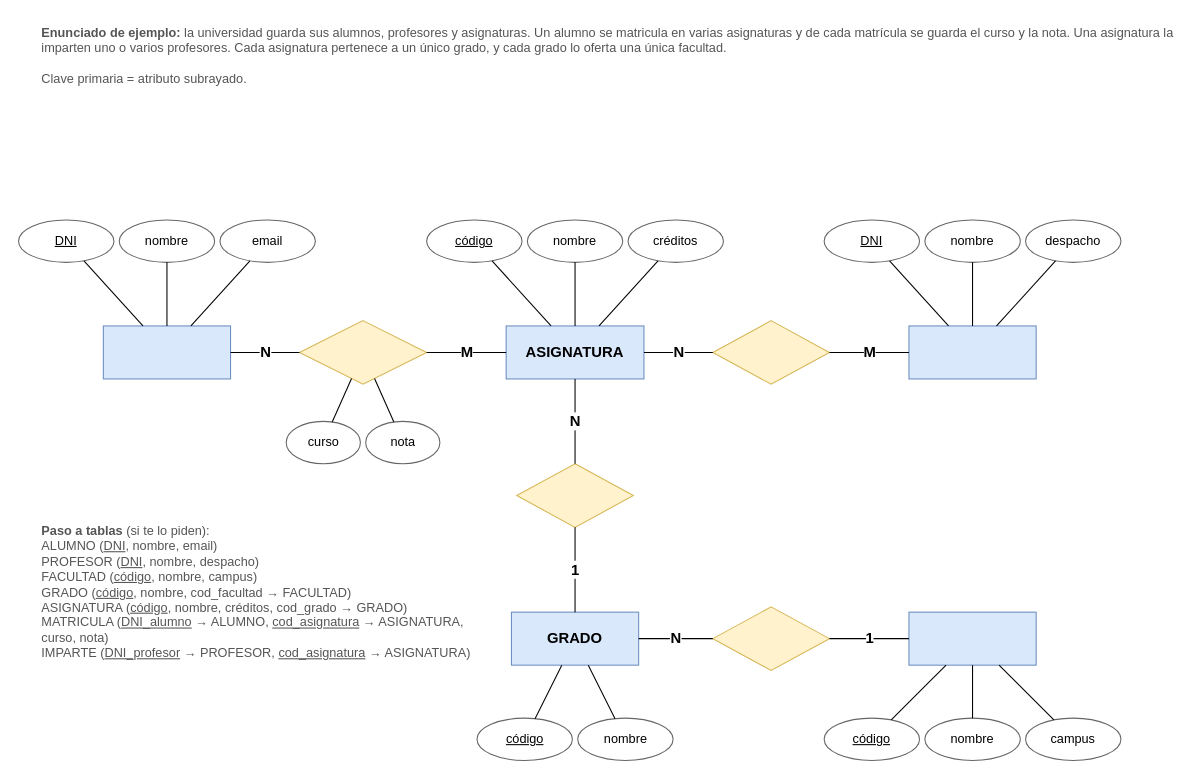
Some shapes in this 1203 by 779 pixel diagram are drawn without their labels. The shapes that lost their labels are listed below. From the top down, each one's box as (x1, y1, x2, y2) in pixels, then its label:
(102, 325, 231, 379): ALUMNO
(298, 320, 427, 384): se matricula
(712, 320, 829, 384): imparte
(908, 325, 1036, 379): PROFESOR
(516, 463, 633, 527): pertenece
(712, 606, 829, 670): oferta
(908, 611, 1036, 665): FACULTAD
